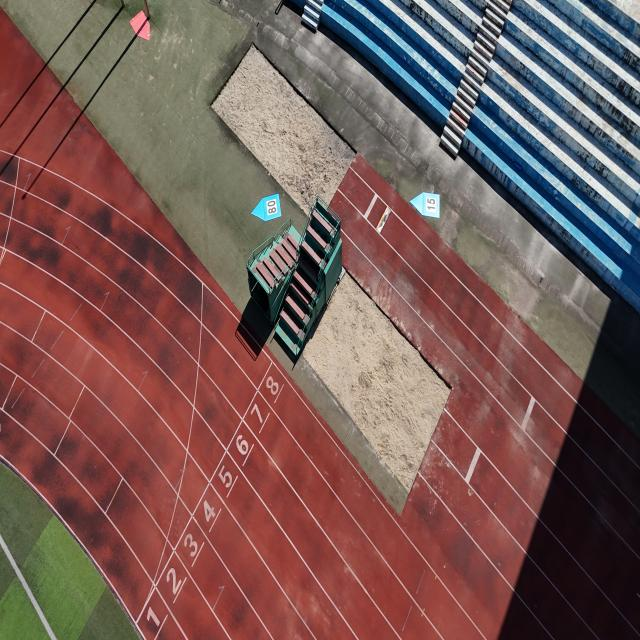board: (251, 193, 282, 221), (410, 192, 440, 218), (130, 10, 150, 41)
